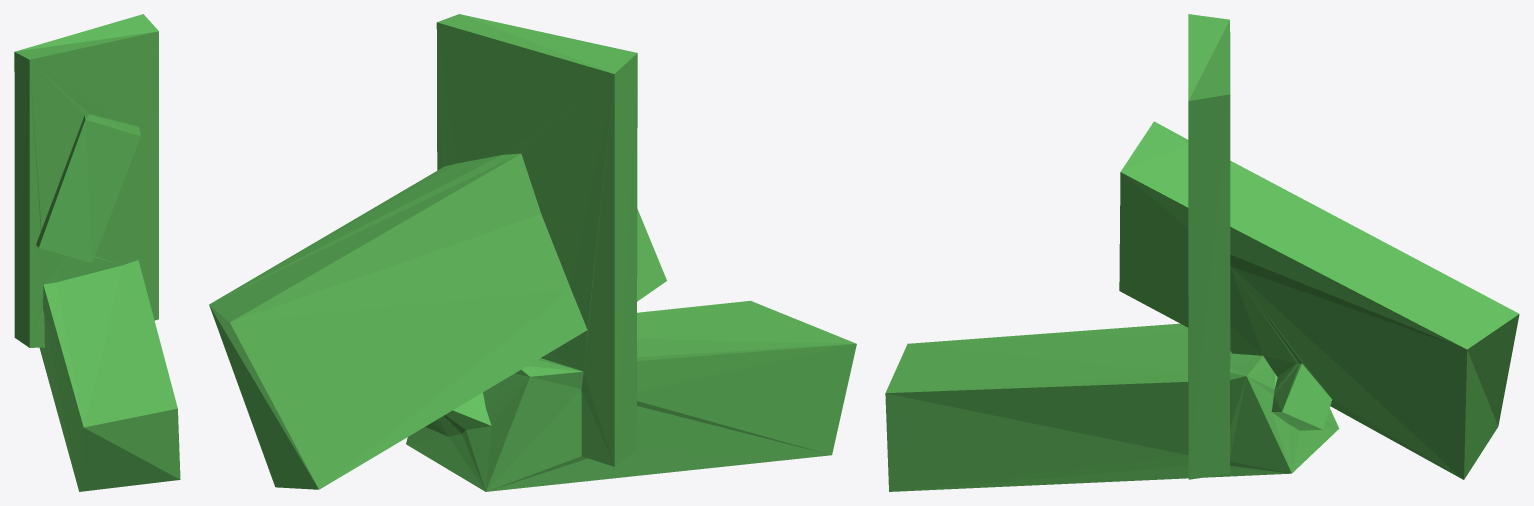
3 views of the same model, side by side, from view 1: azimuth 30°, elevation 25°; view 2: azimuth 150°, elevation 25°; view 3: azimuth 270°, elevation 25° (orthographic). The views are drawn at different scales.
Visible parts, largest first — view 1: 955_Cube.3864; view 2: 955_Cube.3864; view 3: 955_Cube.3864.
Part boxes in pixels (x1,y1,x2,y2): 955_Cube.3864: (14, 14, 180, 491); 955_Cube.3864: (209, 14, 856, 491); 955_Cube.3864: (885, 14, 1519, 491).
Bounding box in the file's own units: 11.26 × 14.74 × 18.24.
